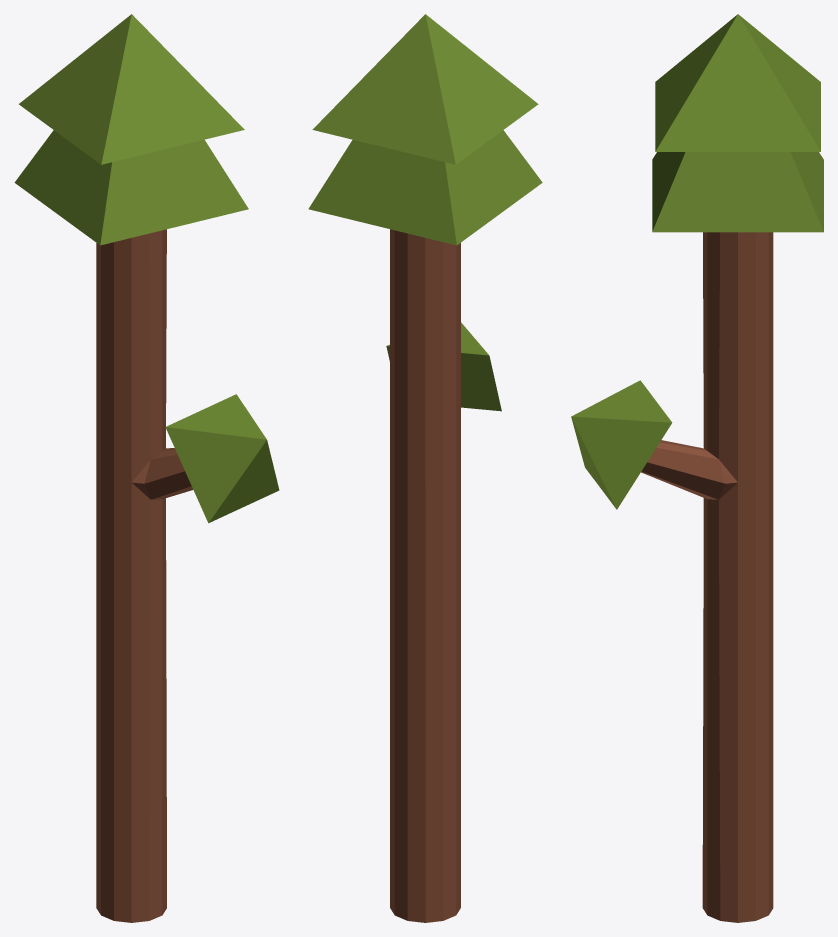
Rendered from Tree_25_autumn_mat.fbx.
3 renders of one model, left to right at view 1: azimuth 30°, elevation 25°; view 2: azimuth 150°, elevation 25°; view 3: azimuth 270°, elevation 25°, orthographic.
Parts seen in each view (by area): view 1: Tree_25_autumn_mat; view 2: Tree_25_autumn_mat; view 3: Tree_25_autumn_mat.
Boxes of the visible parts, x1,y1,x2,y2 form: Tree_25_autumn_mat: (14, 14, 279, 922); Tree_25_autumn_mat: (308, 14, 542, 922); Tree_25_autumn_mat: (571, 14, 823, 922).
Bounding box in the file's own units: 2.33 × 12.33 × 3.16.
